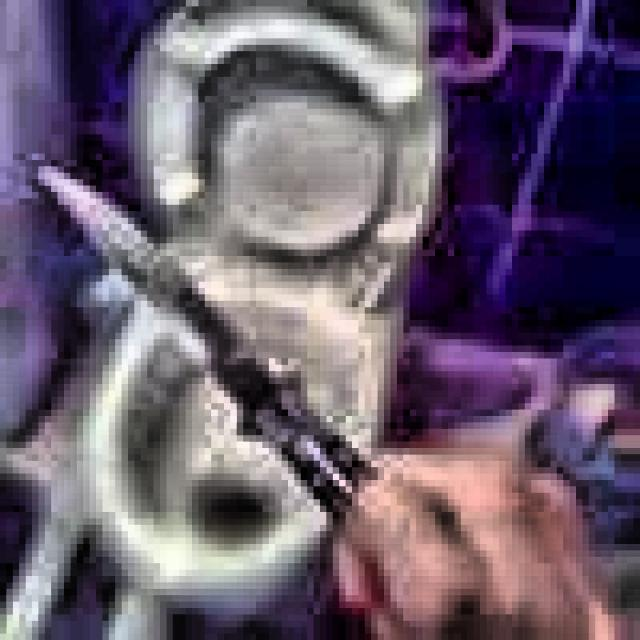knife: (42, 169, 372, 512)
